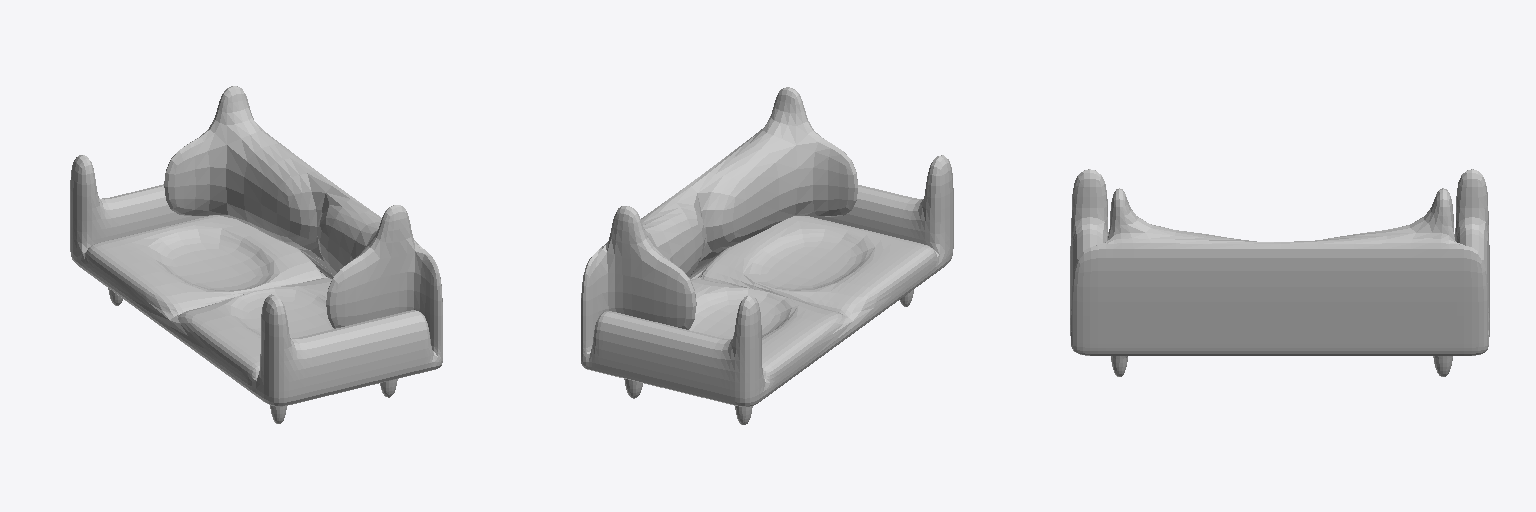
The model's file is canapédéformé.obj.
3 views of the same model, side by side, from view 1: azimuth 30°, elevation 25°; view 2: azimuth 150°, elevation 25°; view 3: azimuth 270°, elevation 25° (orthographic).
Parts seen in each view (by area): view 1: Cube; view 2: Cube; view 3: Cube.
Part boxes in pixels (x1,y1,x2,y2): Cube: (70, 86, 442, 423); Cube: (581, 87, 953, 424); Cube: (1070, 169, 1489, 376).
Size of the model in its own units: 2.78 by 2.9 by 5.77.